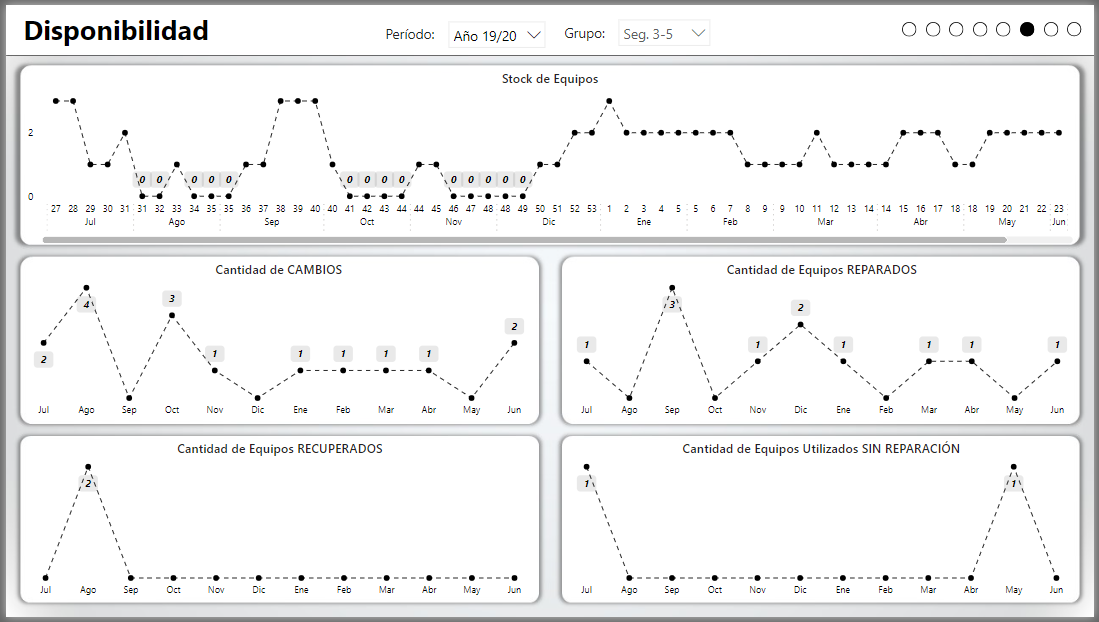

What the dashboard file says about the page in this screenshot:
{"tool":"powerbi","page":{"name":"📅 Disponibilidad","canvas":[1280,720],"ordinal":5},"visuals":[{"type":"textbox","box":[15.5,6.5,261.2,47.8],"z":0},{"type":"lineChart","title":"Stock de Equipos","fields":{"Y":["Medidas._D Cuenta total sin considerar No reparados"],"Category":["vCalendario.AnioFiscal Jerarquía.NombreMesCorto","vCalendario.NumSemanaAnio"]},"box":[15.1,70.2,1249.7,214.7],"z":1000},{"type":"slicer","fields":{"Values":["vCalendario.AnioFiscal"]},"box":[510.3,8.8,134.5,47.8],"z":2000,"group":"g1"},{"type":"lineChart","title":"Cantidad de Equipos REPARADOS","fields":{"Category":["vCalendario.AnioFiscal Jerarquía.NombreMesCorto","vCalendario.NumSemanaAnio"],"Y":["Medidas._D Recuento de reparaciones EN SERIO No recuperados"]},"box":[652.4,295.2,614.1,199.4],"z":2000},{"type":"lineChart","title":"Cantidad de Equipos Utilizados SIN REPARACIÓN","fields":{"Category":["vCalendario.AnioFiscal Jerarquía.NombreMesCorto","vCalendario.NumSemanaAnio"],"Y":["Medidas._D Recuento de NO reparados"]},"box":[652.4,505.9,613,200.6],"z":3000},{"type":"lineChart","title":"Cantidad de Equipos RECUPERADOS","fields":{"Category":["vCalendario.AnioFiscal Jerarquía.NombreMesCorto","vCalendario.NumSemanaAnio"],"Y":["Medidas._D Recuento de Recuperados"]},"box":[16.9,505.9,611.8,200.6],"z":4000},{"type":"textbox","box":[441.3,23.8,80.2,32.3],"z":5000,"group":"g1"},{"type":"lineChart","title":"Cantidad de CAMBIOS","fields":{"Category":["vCalendario.AnioFiscal Jerarquía.NombreMesCorto","vCalendario.NumSemanaAnio"],"Y":["Medidas._D Recuento de cambios"]},"box":[14.6,295.2,614.1,199.4],"z":5000},{"type":"group","id":"g1","title":"Grupo 1","box":[441.3,7,397.4,49.7],"z":6000},{"type":"actionButton","box":[1054.5,20,17,17.3],"z":7000},{"type":"actionButton","box":[1248.2,20,16.9,16.9],"z":8000},{"type":"actionButton","box":[1082.2,20,17,17.3],"z":9000},{"type":"actionButton","box":[1109.9,20,17,17.3],"z":10000},{"type":"actionButton","box":[1137.6,20,17,17.3],"z":11000},{"type":"actionButton","box":[1165.3,20,17,17.3],"z":12000},{"type":"actionButton","box":[1193,20,17,17.3],"z":13000},{"type":"actionButton","box":[1220.7,20,16.9,17.3],"z":14000},{"type":"slicer","fields":{"Values":["vSegmento.Grupo"]},"box":[710.7,7,128,42.7],"z":15000,"group":"g1"},{"type":"textbox","box":[652,22.5,68.5,32.3],"z":19000,"group":"g1"}]}

Visuals, with their boxes in screenshot pixels (x1, y1, x2, y2), scaled from the page's 1280x720 canvas onto the 1099x622 screenshot:
textbox: bbox=[13, 6, 238, 47]
"Stock de Equipos" lineChart: bbox=[13, 61, 1086, 246]
slicer - vCalendario.AnioFiscal: bbox=[438, 8, 554, 49]
"Cantidad de Equipos REPARADOS" lineChart: bbox=[560, 255, 1087, 427]
"Cantidad de Equipos Utilizados SIN REPARACIÓN" lineChart: bbox=[560, 437, 1086, 610]
"Cantidad de Equipos RECUPERADOS" lineChart: bbox=[15, 437, 540, 610]
textbox: bbox=[379, 21, 448, 48]
"Cantidad de CAMBIOS" lineChart: bbox=[13, 255, 540, 427]
"Grupo 1" group: bbox=[379, 6, 720, 49]
actionButton: bbox=[905, 17, 920, 32]
actionButton: bbox=[1072, 17, 1086, 32]
actionButton: bbox=[929, 17, 944, 32]
actionButton: bbox=[953, 17, 968, 32]
actionButton: bbox=[977, 17, 991, 32]
actionButton: bbox=[1001, 17, 1015, 32]
actionButton: bbox=[1024, 17, 1039, 32]
actionButton: bbox=[1048, 17, 1063, 32]
slicer - vSegmento.Grupo: bbox=[610, 6, 720, 43]
textbox: bbox=[560, 19, 619, 47]
